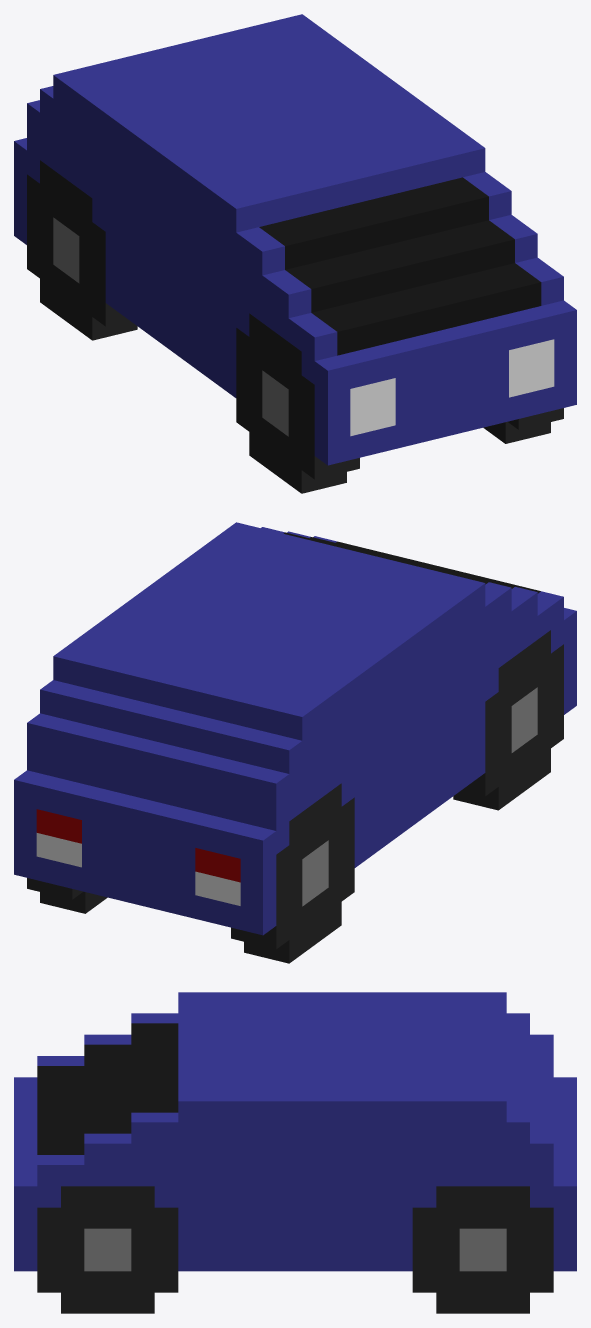
The model's file is sports_purple.obj.
The picture shows the model from 3 angles, top to bottom: view 1: azimuth 30°, elevation 25°; view 2: azimuth 150°, elevation 25°; view 3: azimuth 270°, elevation 25°; orthographic projection. The views are drawn at different scales.
Parts seen in each view (by area): view 1: sports_purple; view 2: sports_purple; view 3: sports_purple.
Boxes of the visible parts, x1=… form: sports_purple: x1=14, y1=14, x2=576, y2=493; sports_purple: x1=14, y1=522, x2=576, y2=963; sports_purple: x1=14, y1=992, x2=576, y2=1313.
Size of the model in its own units: 11 by 10 by 24.
Materials: 1 (1 with a texture image).
